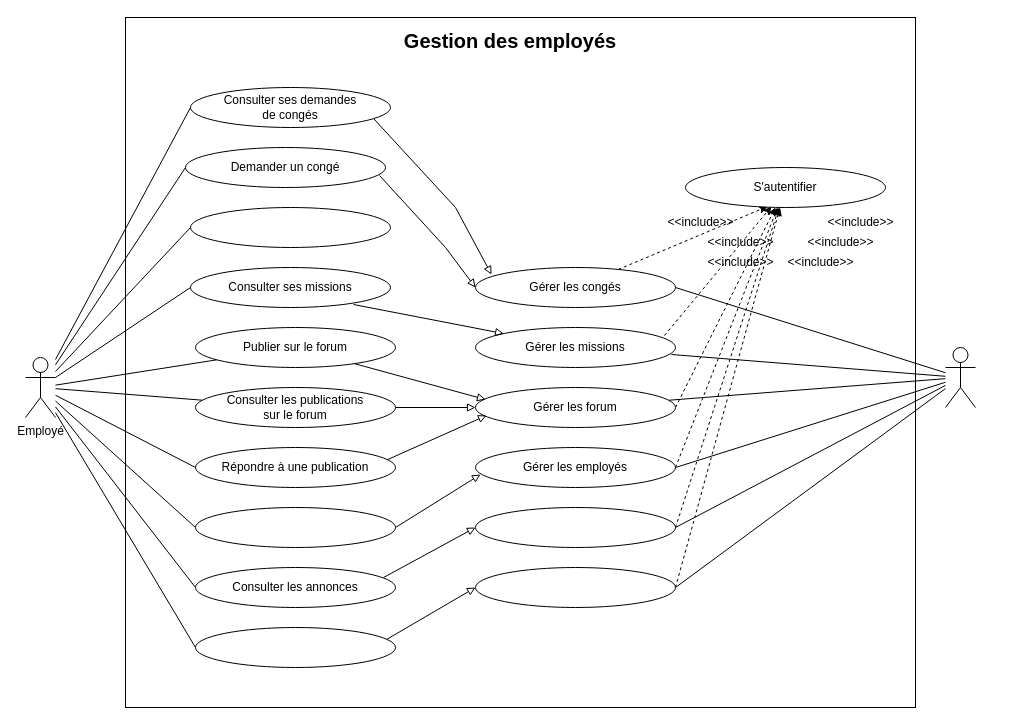
This 1016x725 diagram has some shape labels left out. The shapes that lost their labels are listed below. From the top down, each one's centre as x and y in pixels, then its label:
[290,227]: Mettre à jour ses informations
[960,377]: Administrateur
[295,527]: Chercher un employé
[575,527]: Gérer les annonces
[575,587]: Gérer les formations
[295,647]: Consulter les formations
